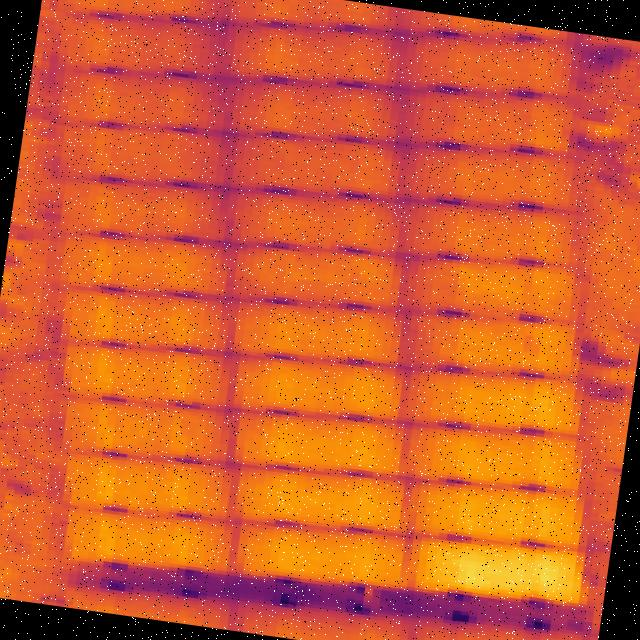Hotspot: (422, 540, 576, 600)
